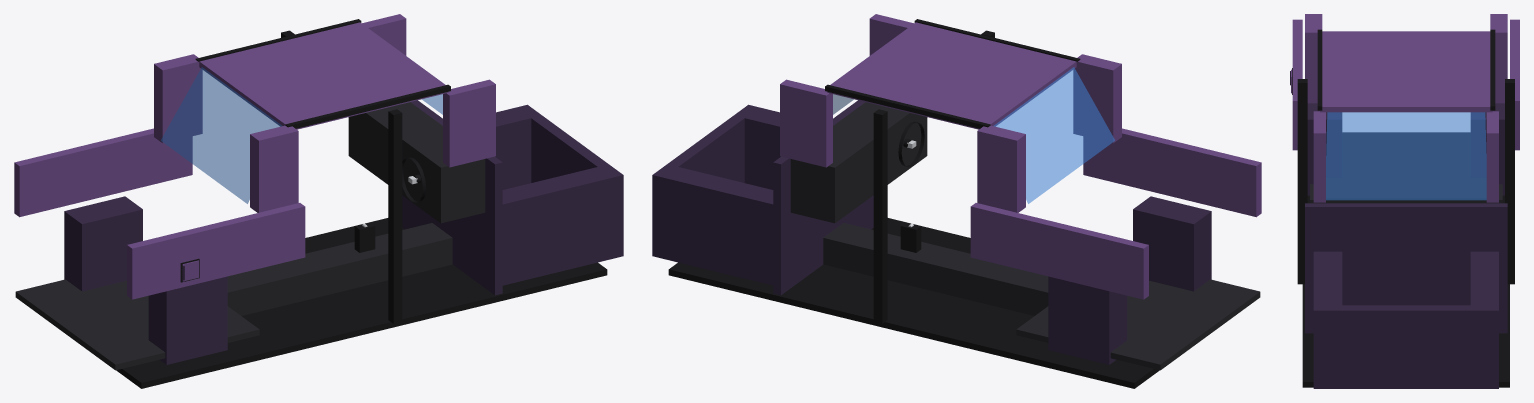
The model's file is chassis_shell.obj.
3 views of the same model, side by side, from view 1: azimuth 30°, elevation 25°; view 2: azimuth 150°, elevation 25°; view 3: azimuth 270°, elevation 25° (orthographic). The views are drawn at different scales.
Visible parts, largest first — view 1: Chassis_Shell; view 2: Chassis_Shell; view 3: Chassis_Shell.
Part boxes in pixels (x1,y1,x2,y2): Chassis_Shell: [14, 14, 623, 388]; Chassis_Shell: [652, 14, 1261, 388]; Chassis_Shell: [1290, 14, 1519, 388].
Bounding box in the file's own units: 4.6 × 1.89 × 1.86.
